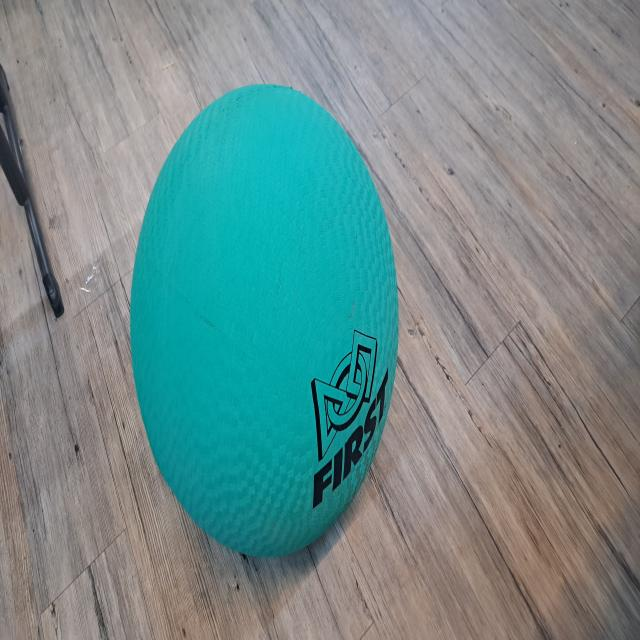ALGAE: (128, 81, 400, 559)
